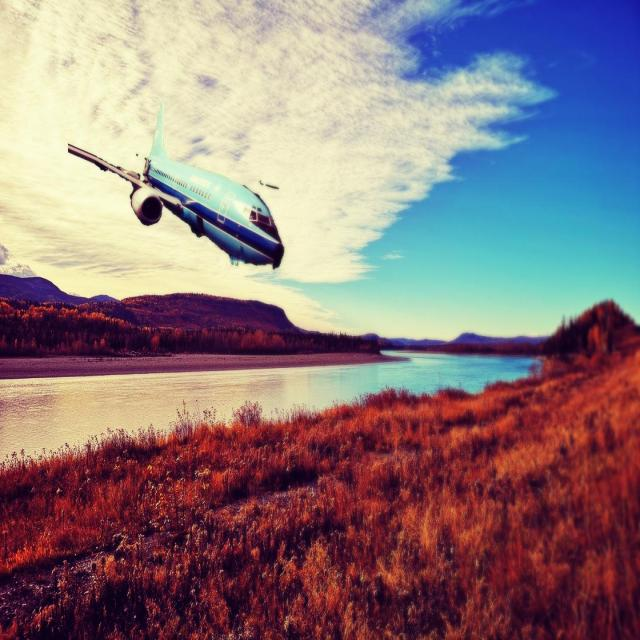airplane: (66, 101, 284, 270)
